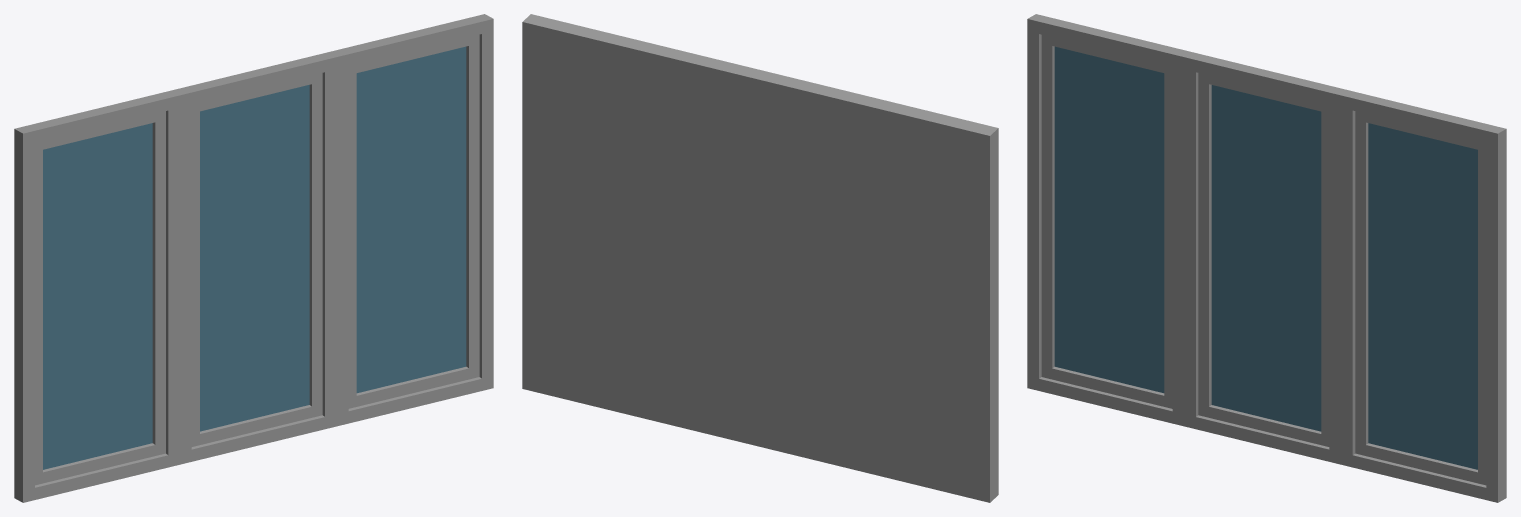
File: window001.glb
3 renders of one model, left to right at view 1: azimuth 30°, elevation 25°; view 2: azimuth 150°, elevation 25°; view 3: azimuth 330°, elevation 25°, orthographic.
Parts seen in each view (by area): view 1: window.001; view 2: window.001; view 3: window.001.
Part boxes in pixels (x1=…): window.001: x1=14, y1=14, x2=493, y2=502; window.001: x1=522, y1=14, x2=998, y2=502; window.001: x1=1027, y1=14, x2=1506, y2=502.
Bounding box in the file's own units: 2 × 1.51 × 0.0645.
Materials: 1 (1 with a texture image).
